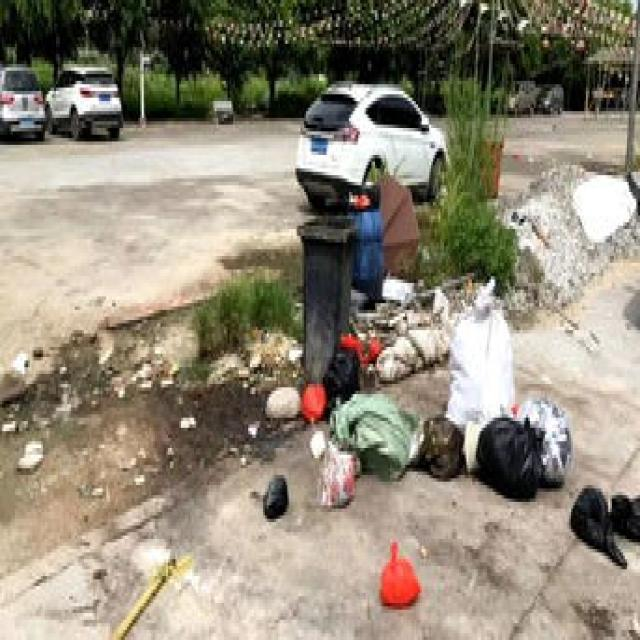garbage: (259, 330, 638, 606)
garbage_bin: (294, 209, 352, 377)
